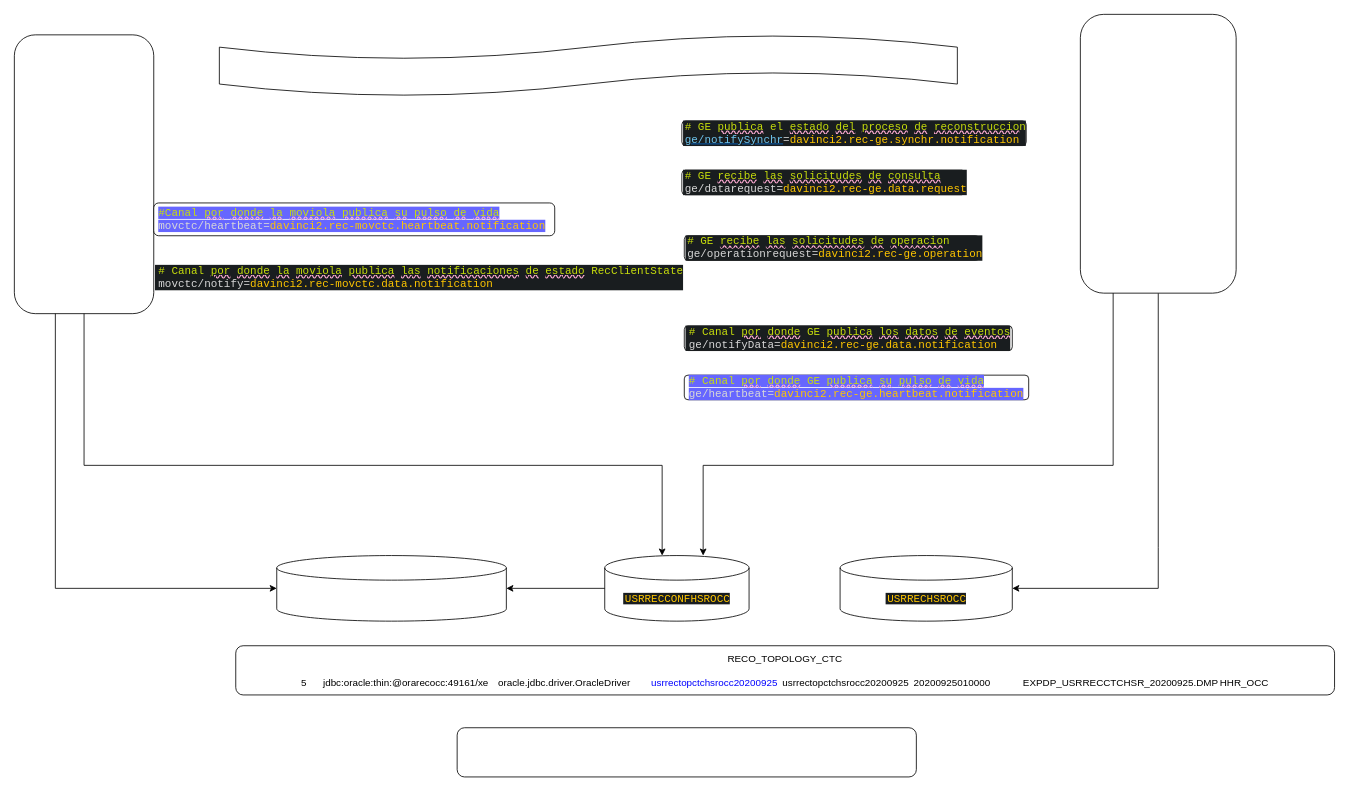
The diagram is 1349 pixels wide and 791 high, and some of its shapes have lost their labels. Here are the shapes that lost their labels. From the top down, the centre of each, then its label:
(x=588, y=65): TIBCO
(x=1158, y=153): GE
(x=84, y=174): MOVIOLA CTC
(x=391, y=588): usrrectopctchsrocc20200925
(x=686, y=752): jdbc : oracle :thin:@orarecocc:49161/ xe
